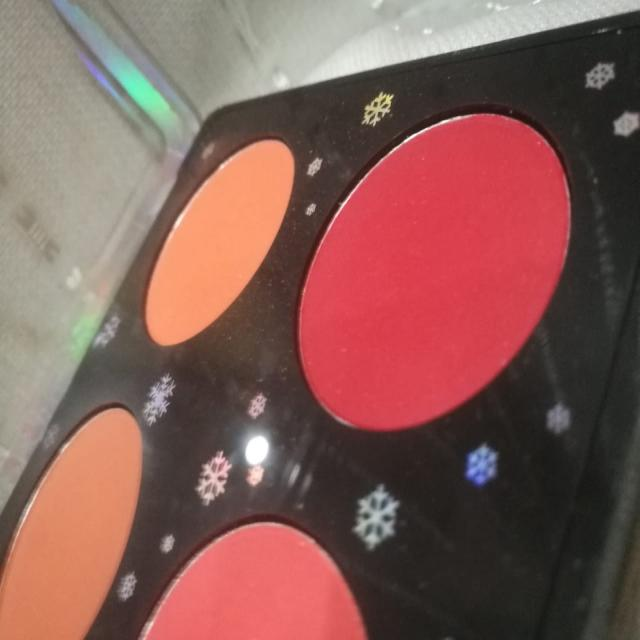blush: (286, 101, 584, 446), (130, 107, 309, 371), (0, 389, 157, 640), (127, 503, 378, 640)
